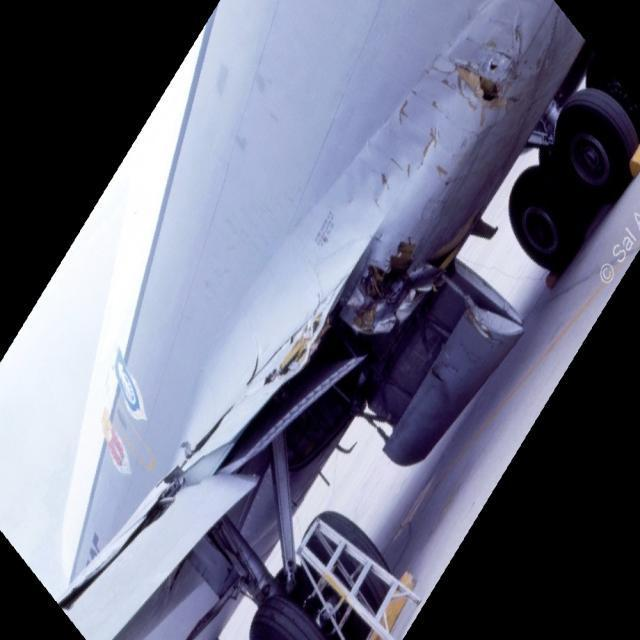crack: (453, 59, 508, 115)
dent: (344, 81, 461, 219)
